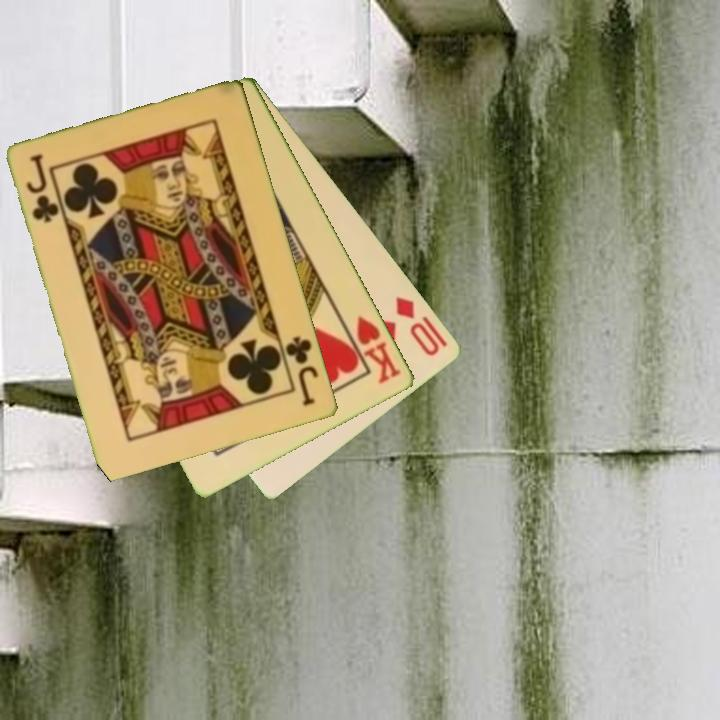10d: (392, 293, 443, 359)
Jc: (282, 333, 322, 410), (23, 150, 63, 226)
Kh: (340, 312, 404, 387)
